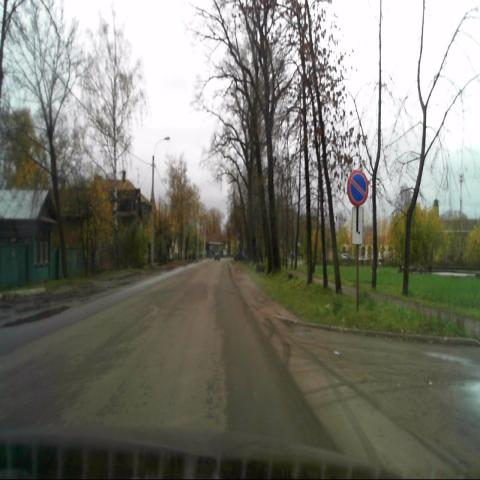3_28: (347, 170, 368, 207)
